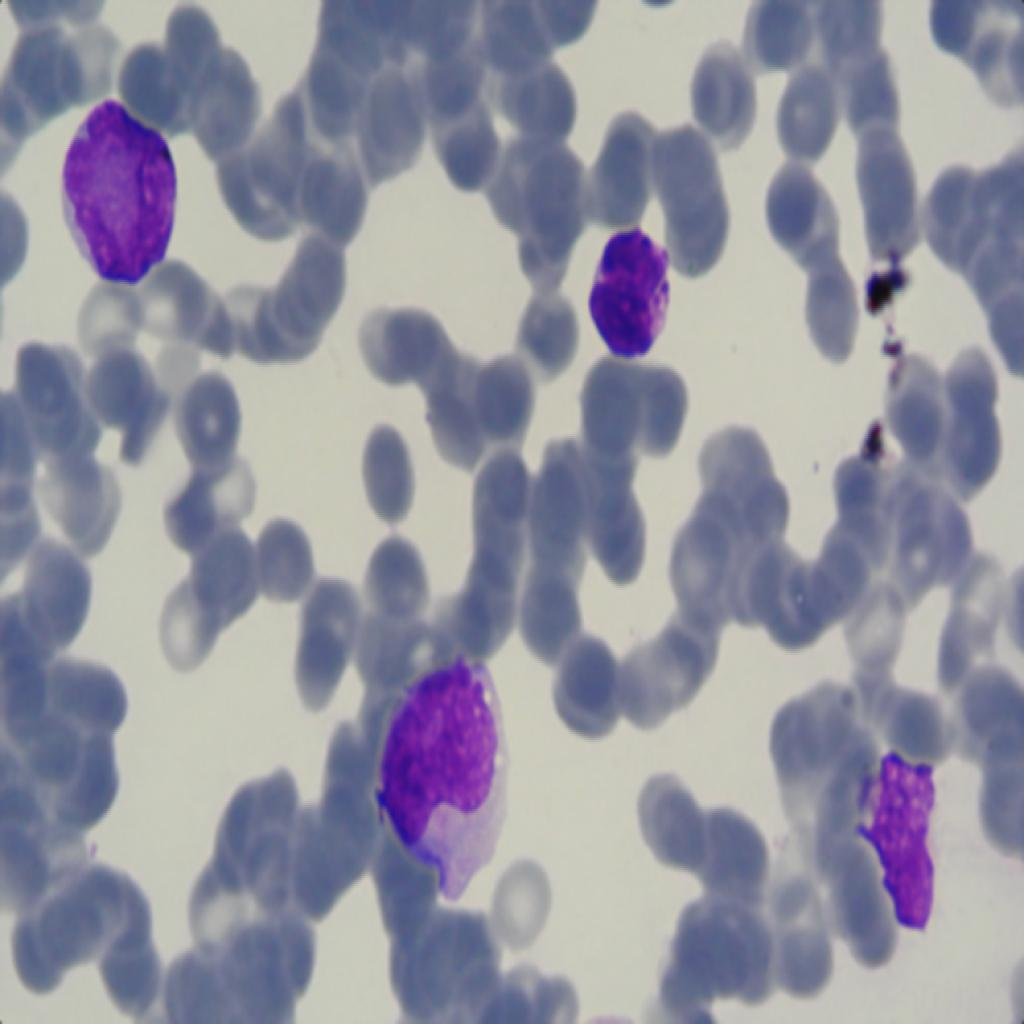Myeoblast: (368, 645, 512, 886), (53, 101, 182, 298), (851, 736, 958, 933), (576, 207, 687, 375)
